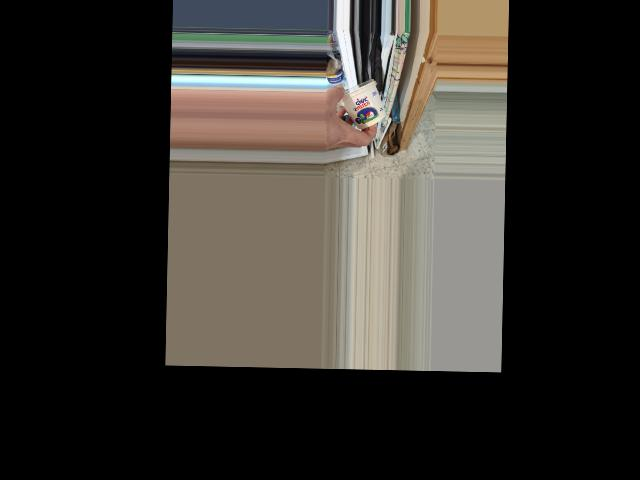cotage: (341, 77, 386, 127)
